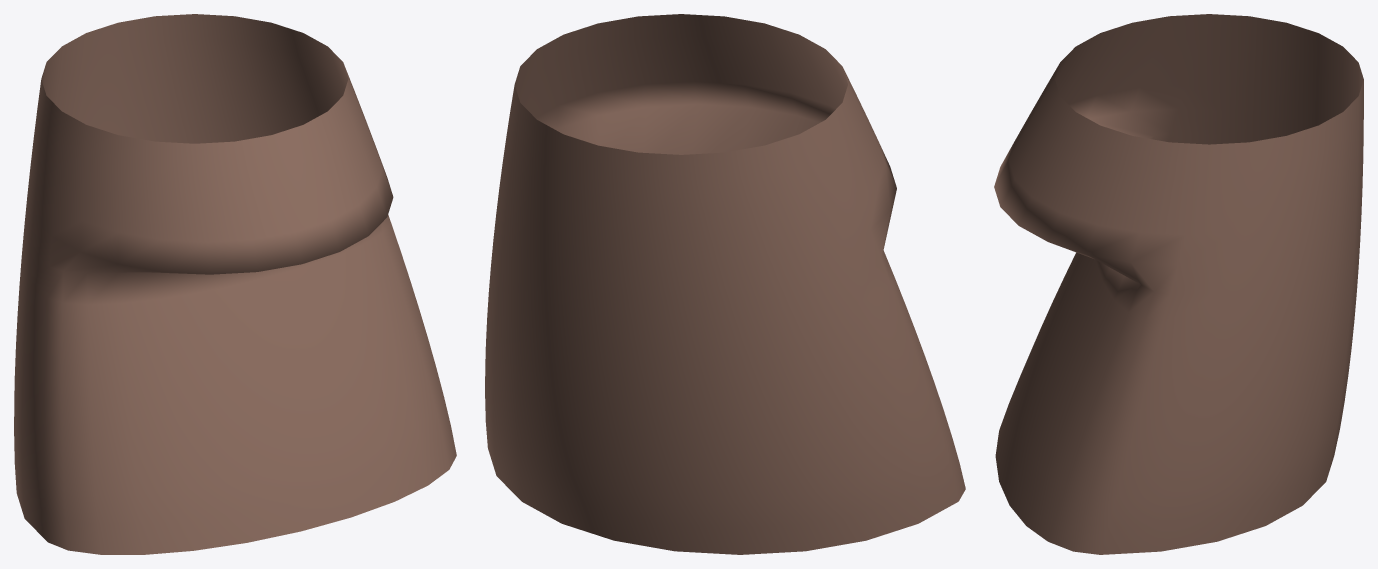
Rendered from hat_medieval_hood.glb.
3 renders of one model, left to right at view 1: azimuth 30°, elevation 25°; view 2: azimuth 150°, elevation 25°; view 3: azimuth 270°, elevation 25°, orthographic. The views are drawn at different scales.
Visible parts, largest first — view 1: MedievalHood; view 2: MedievalHood; view 3: MedievalHood.
Part boxes in pixels (<box>): MedievalHood: <box>14,14,456,554</box>; MedievalHood: <box>485,14,965,554</box>; MedievalHood: <box>994,14,1363,554</box>.
Size of the model in its own units: 0.236 by 0.21 by 0.1868.
